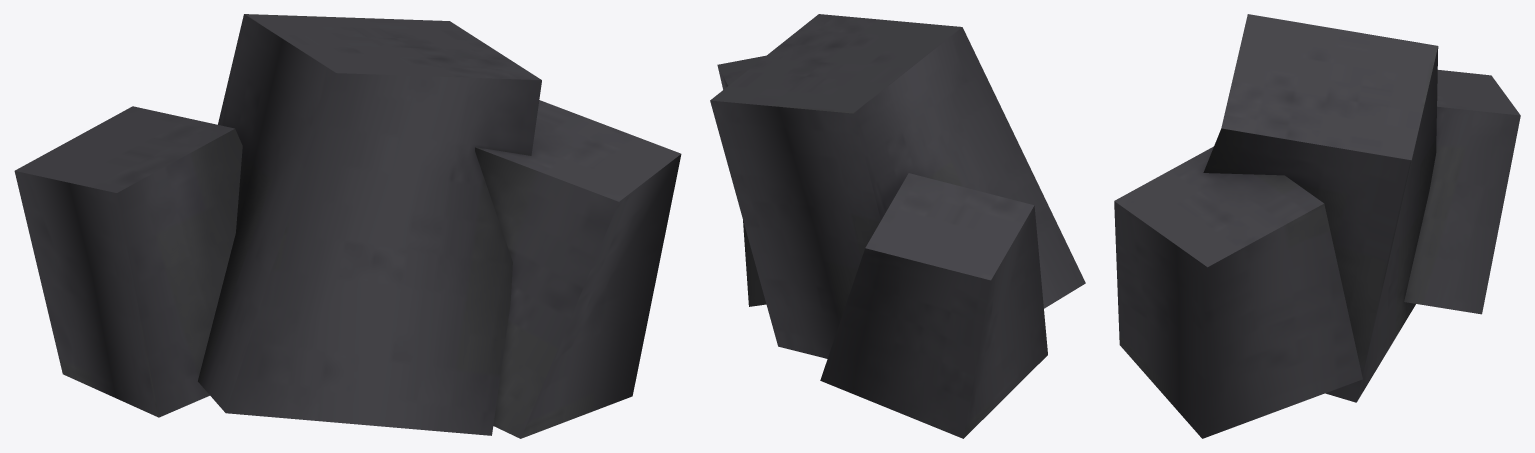
Rendered from carvao.glb.
3 views of the same model, side by side, from view 1: azimuth 30°, elevation 25°; view 2: azimuth 150°, elevation 25°; view 3: azimuth 270°, elevation 25° (orthographic). The views are drawn at different scales.
Visible parts, largest first — view 1: carvao_corpo; view 2: carvao_corpo; view 3: carvao_corpo.
Part boxes in pixels (x1,y1,x2,y2): carvao_corpo: (14, 14, 681, 438); carvao_corpo: (710, 14, 1085, 438); carvao_corpo: (1114, 14, 1520, 438).
Bounding box in the file's own units: 0.22 × 0.16 × 0.1828.
Materials: 1 (1 with a texture image).
